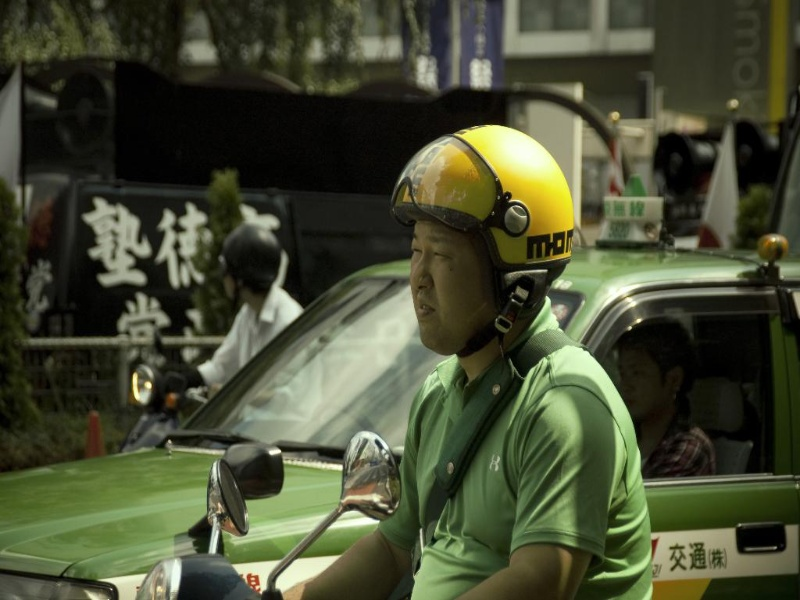Baret: (400, 124, 573, 269)
